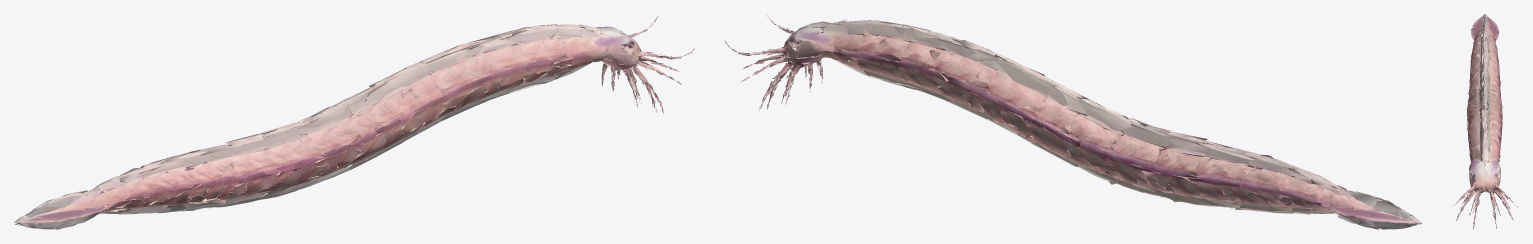
The model's file is pikaia.glb.
3 renders of one model, left to right at view 1: azimuth 30°, elevation 25°; view 2: azimuth 150°, elevation 25°; view 3: azimuth 270°, elevation 25°, orthographic. The views are drawn at different scales.
Visible parts, largest first — view 1: Mesh_0; view 2: Mesh_0; view 3: Mesh_0.
Boxes of the visible parts, x1,y1,x2,y2 form: Mesh_0: [14, 16, 694, 229]; Mesh_0: [725, 15, 1422, 229]; Mesh_0: [1453, 14, 1517, 229].
Bounding box in the file's own units: 1 × 0.1551 × 0.1406.
Materials: 1 (1 with a texture image).
